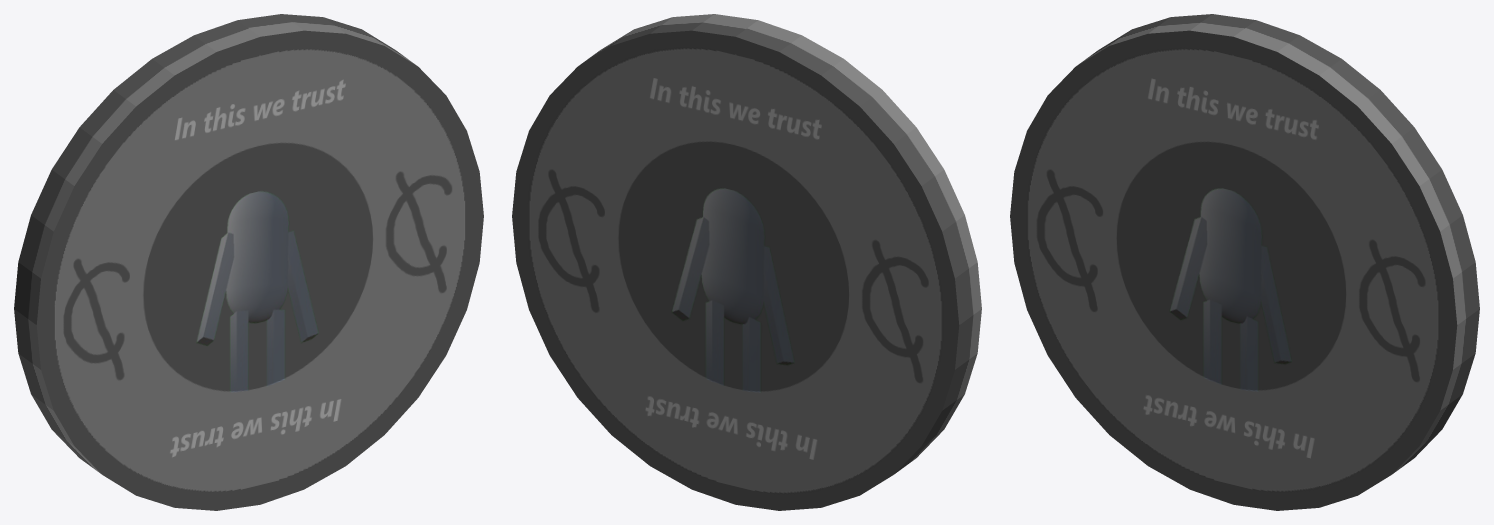
Rendered from coin.obj.
3 views of the same model, side by side, from view 1: azimuth 30°, elevation 25°; view 2: azimuth 150°, elevation 25°; view 3: azimuth 330°, elevation 25° (orthographic).
Visible parts, largest first — view 1: Cylinder_side, Cylinder_mid; view 2: Cylinder_side, Cylinder_mid; view 3: Cylinder_side, Cylinder_mid.
Part boxes in pixels (left/top/right/bottom): Cylinder_side: left=36, top=30, right=483, bottom=510; Cylinder_mid: left=14, top=14, right=416, bottom=474; Cylinder_side: left=512, top=30, right=959, bottom=510; Cylinder_mid: left=579, top=14, right=981, bottom=474; Cylinder_side: left=1010, top=30, right=1457, bottom=510; Cylinder_mid: left=1077, top=14, right=1479, bottom=474.
Bounding box in the file's own units: 0.5992 × 0.5992 × 0.0528.
